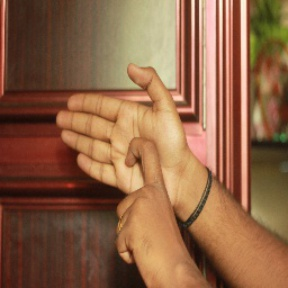R: (53, 61, 195, 260)
